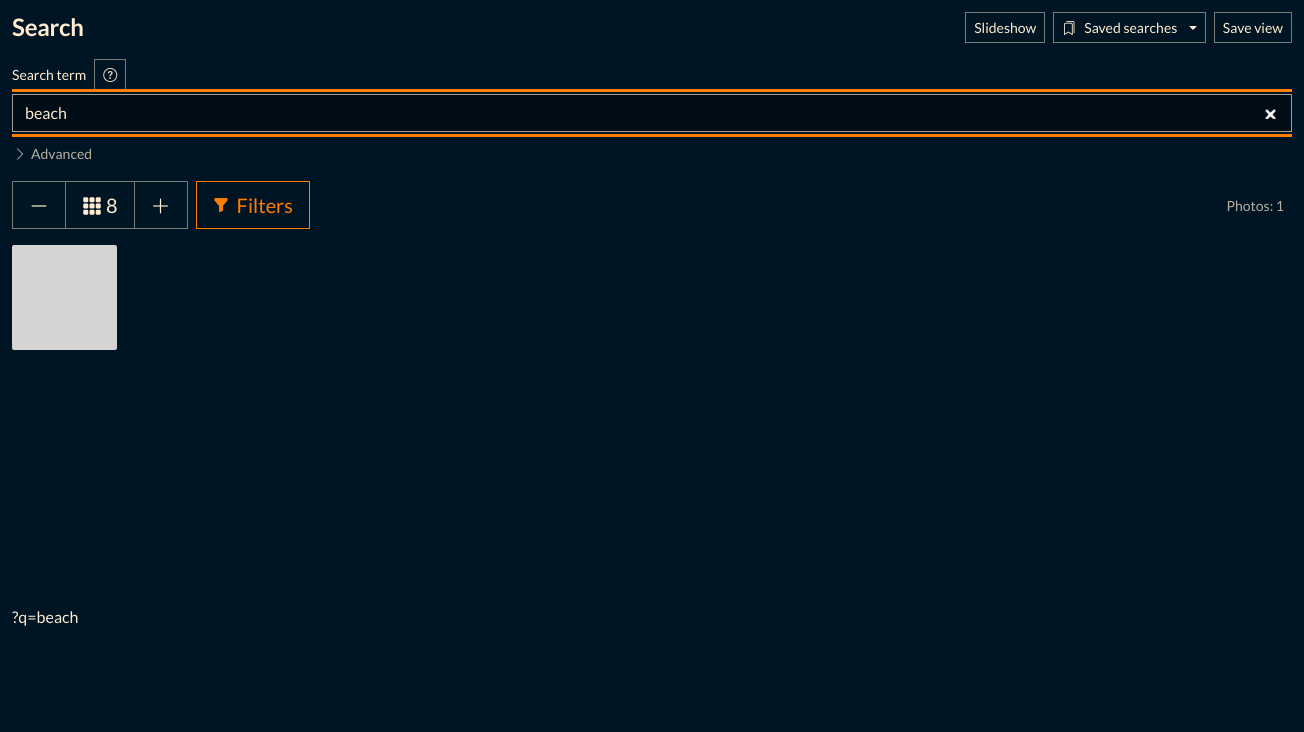
Test: SearchPage › changing the mode updates the URL and refetches
Click the button "Advanced" at (53, 154), box [12,142,93,166]
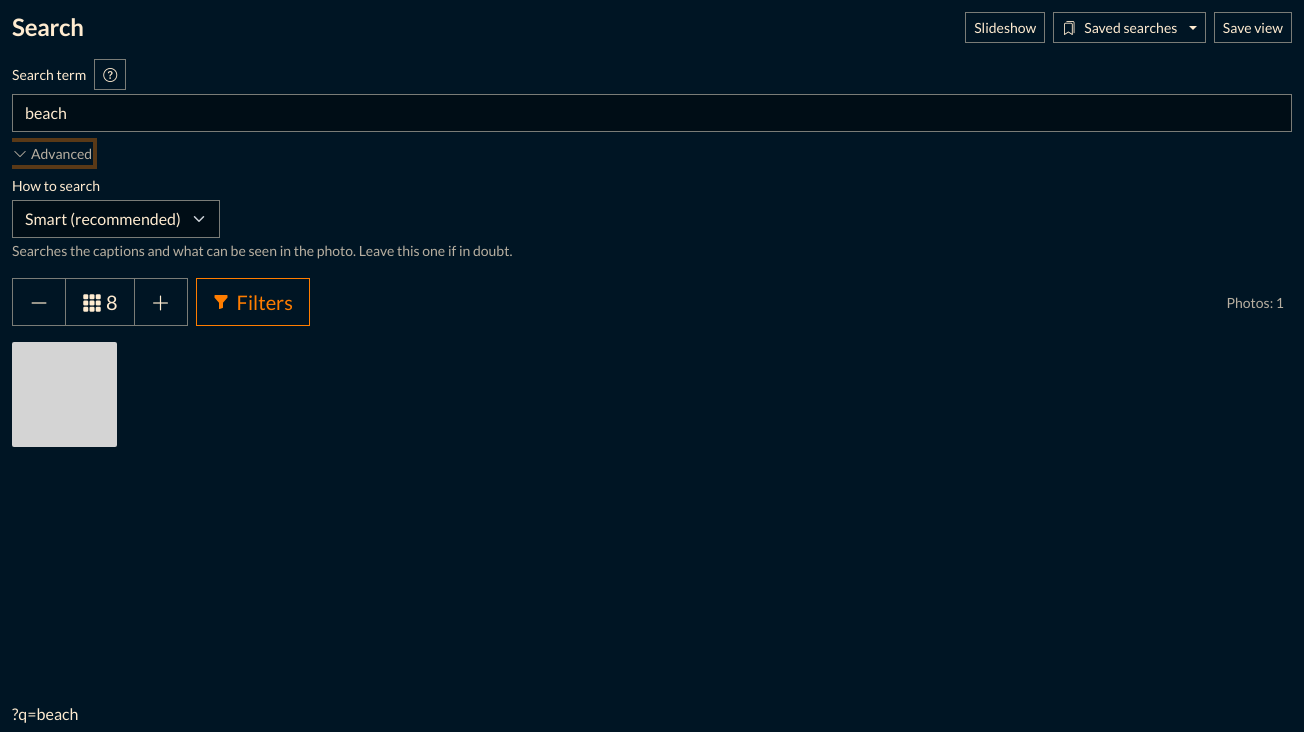
Select "By text" in the dropdown labelled "How to search" at (116, 220), box [12,200,220,238]
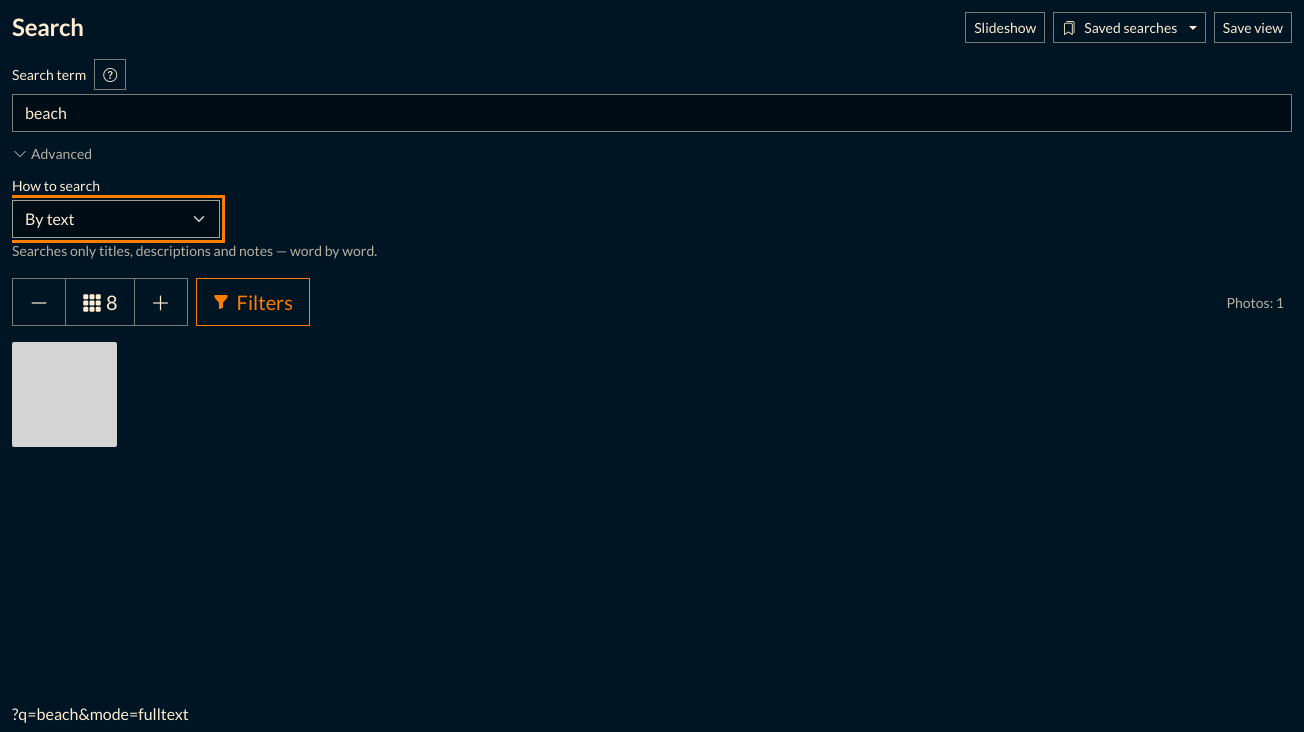
Result: the text with test id "search" shows "mode=fulltext" at [12,704,189,724]
